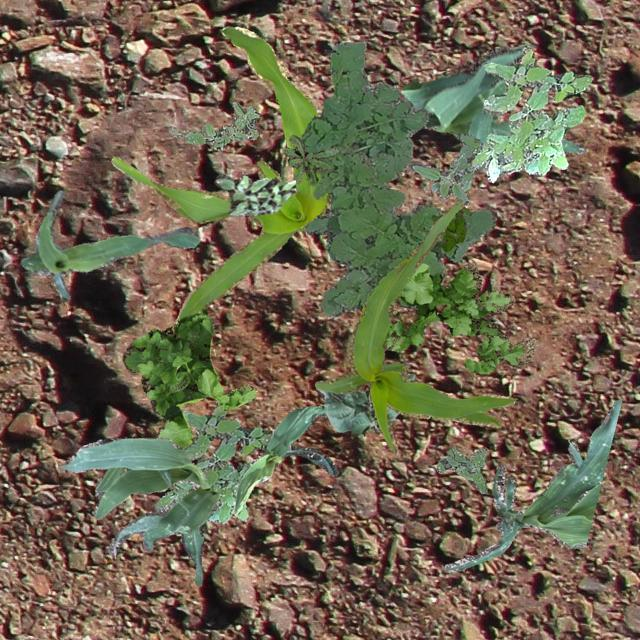crop: (110, 26, 330, 326), (314, 198, 516, 450), (444, 398, 620, 572), (400, 44, 584, 190), (58, 437, 220, 558), (20, 190, 198, 300), (232, 404, 338, 514), (314, 373, 414, 435), (180, 524, 202, 586)
weed: (298, 41, 496, 316), (121, 307, 256, 448), (384, 262, 536, 372), (471, 45, 592, 182), (154, 400, 272, 522), (409, 132, 485, 204), (166, 100, 258, 150), (212, 172, 294, 218), (282, 134, 338, 184), (436, 443, 486, 492), (431, 206, 468, 250)
